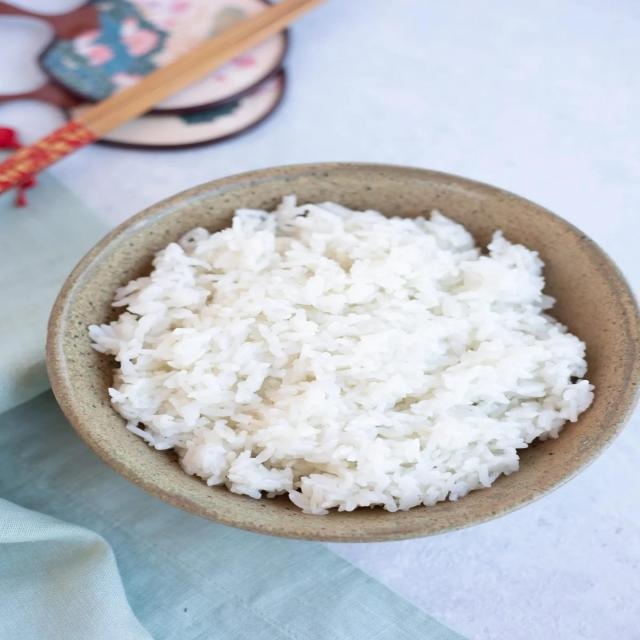rice: (72, 206, 605, 517)
